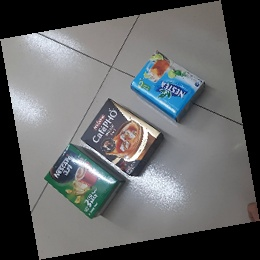CF pho: (80, 96, 164, 176)
Nes Rang: (43, 143, 125, 220)
Nestea: (129, 49, 207, 123)
